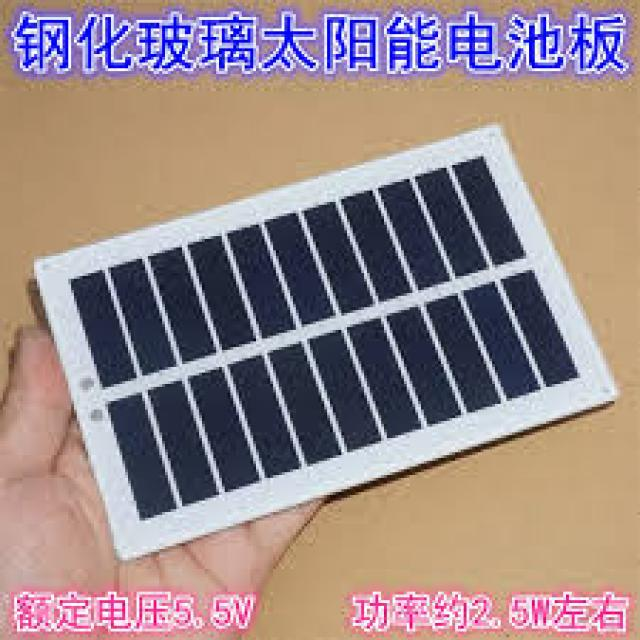no faulty: (66, 158, 597, 525)
